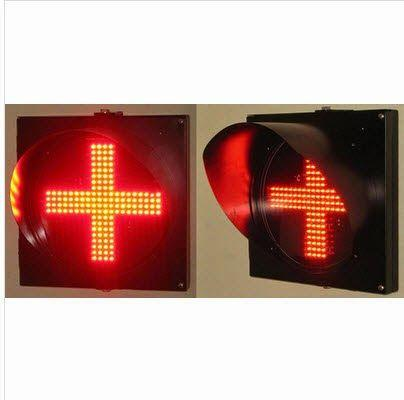red: (0, 96, 404, 305)
